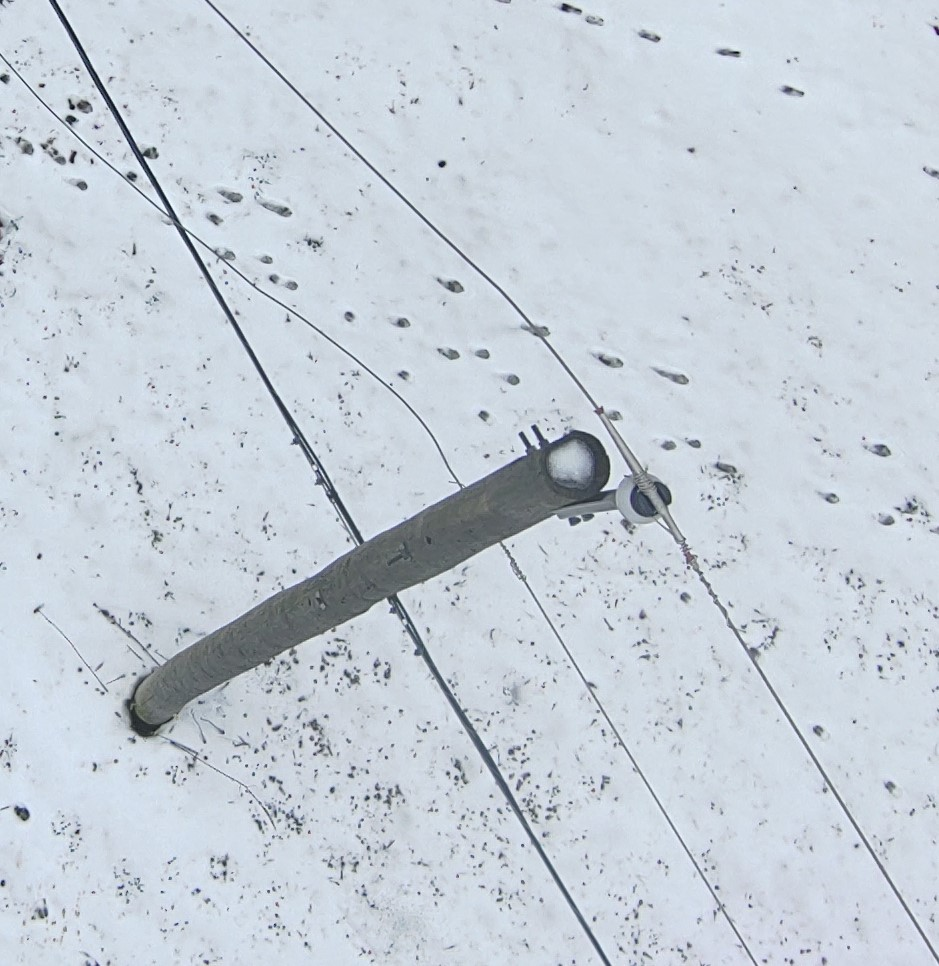pole: (93, 388, 666, 794)
